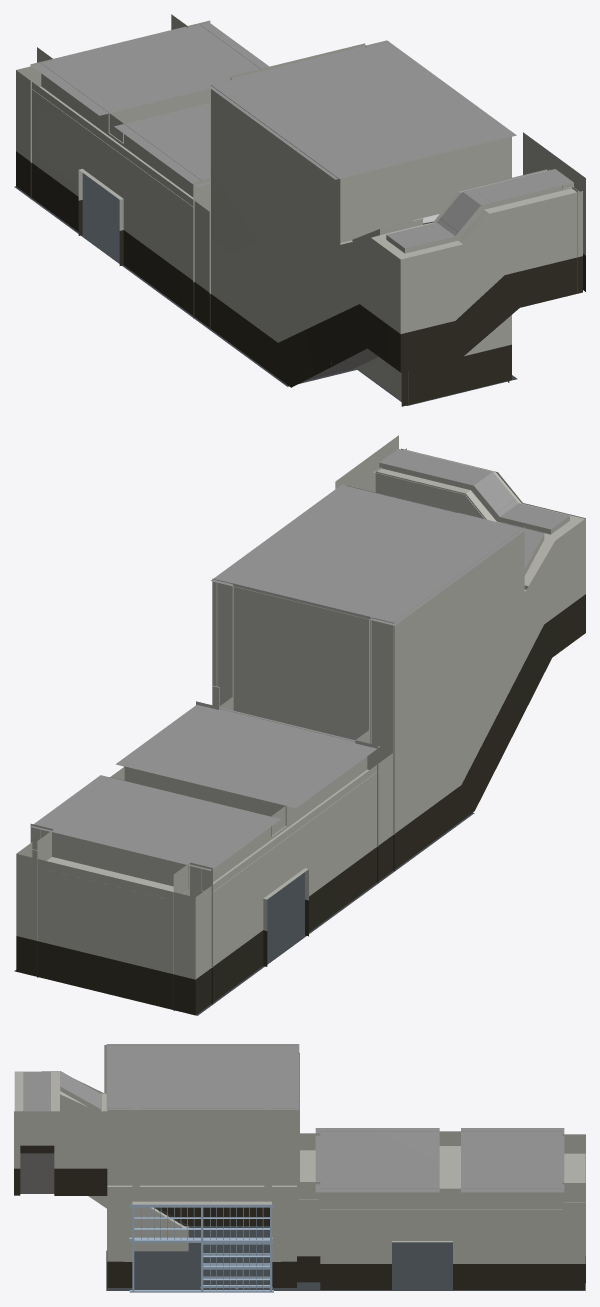
Rendered from SM_H_Building_Tide_Canteen_06_ATLAS.fbx.
3 views of the same model, one above another, from view 1: azimuth 30°, elevation 25°; view 2: azimuth 150°, elevation 25°; view 3: azimuth 270°, elevation 25° (orthographic). The views are drawn at different scales.
Parts seen in each view (by area): view 1: SM_H_Building_Tide_Canteen_06_ATLAS; view 2: SM_H_Building_Tide_Canteen_06_ATLAS; view 3: SM_H_Building_Tide_Canteen_06_ATLAS.
Part boxes in pixels (bbox=[...]): SM_H_Building_Tide_Canteen_06_ATLAS: bbox=[14, 14, 585, 406]; SM_H_Building_Tide_Canteen_06_ATLAS: bbox=[14, 435, 585, 1015]; SM_H_Building_Tide_Canteen_06_ATLAS: bbox=[14, 1044, 585, 1292].
Size of the model in its own units: 762 by 2696 by 960.
